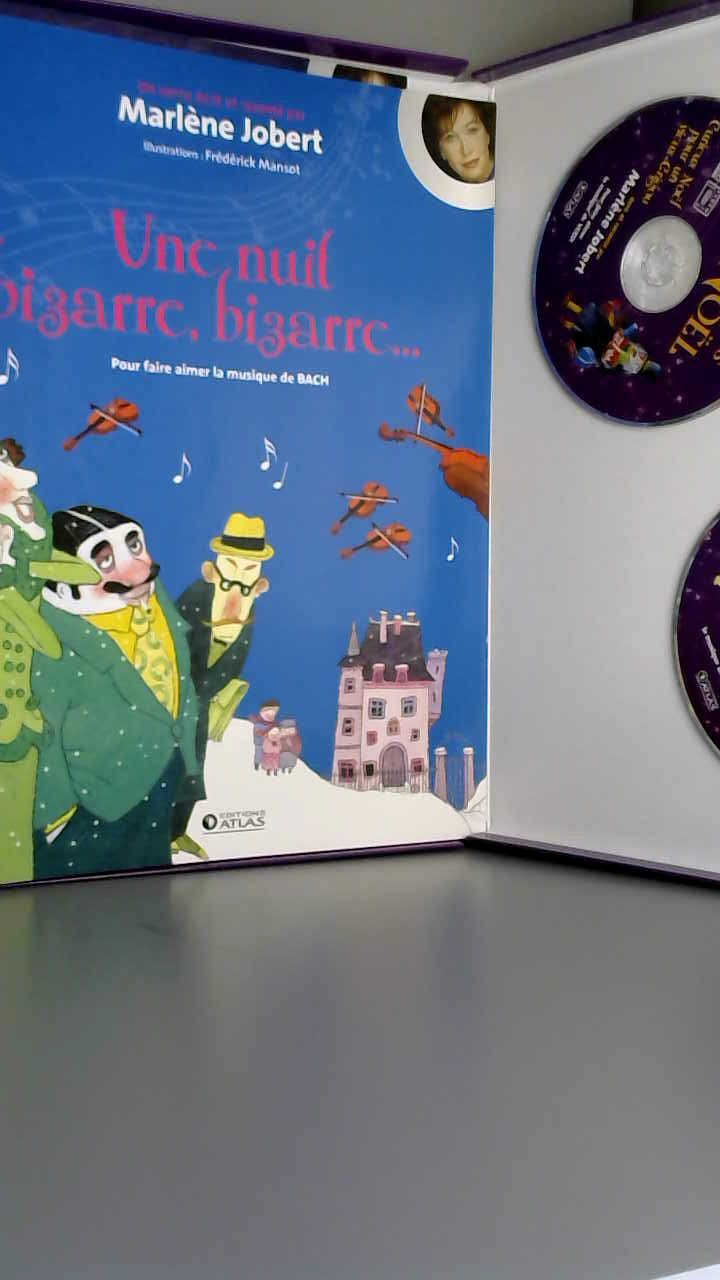book: (0, 0, 720, 905)
